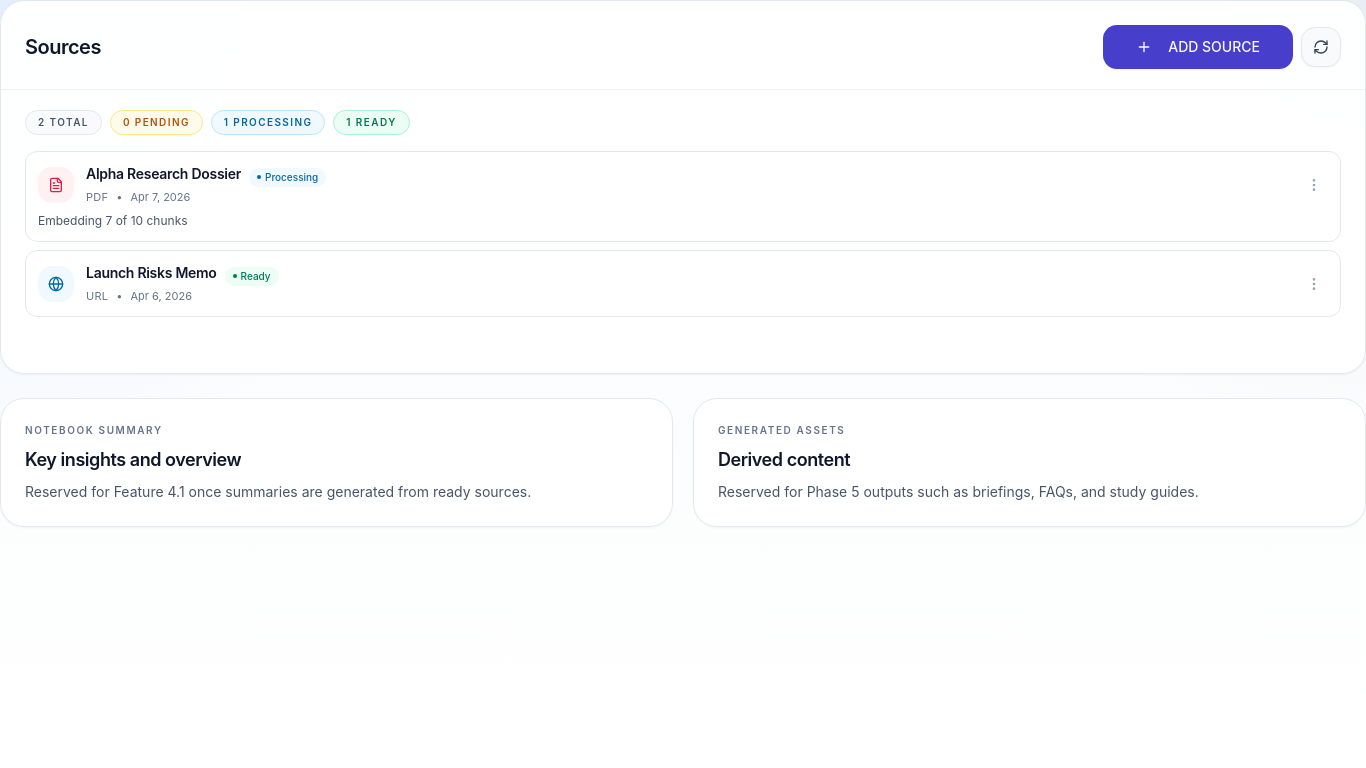
Test case: NotebookWorkspace › closes the source action menu when clicking outside the portal
Check: the heading "Alpha Research Dossier" is shown, box [86,164,241,184]
Click the button named "More actions for Alpha Research Dossier" at (1314, 184), box [1300,170,1328,198]
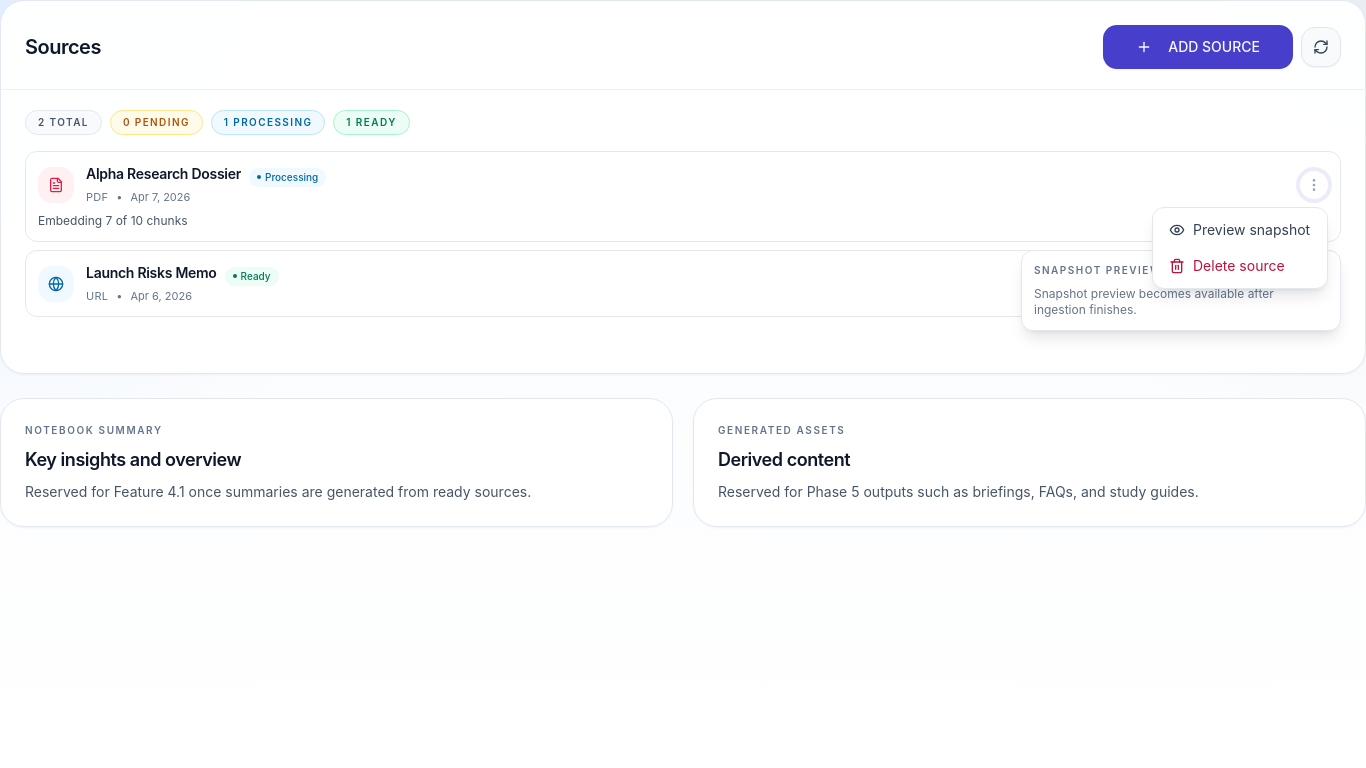
Check: the button "Preview snapshot" is shown, box [1157,212,1323,248]
Press the mouse on the element that starts with "Sources" at (683, 384), box [0,0,1365,767]
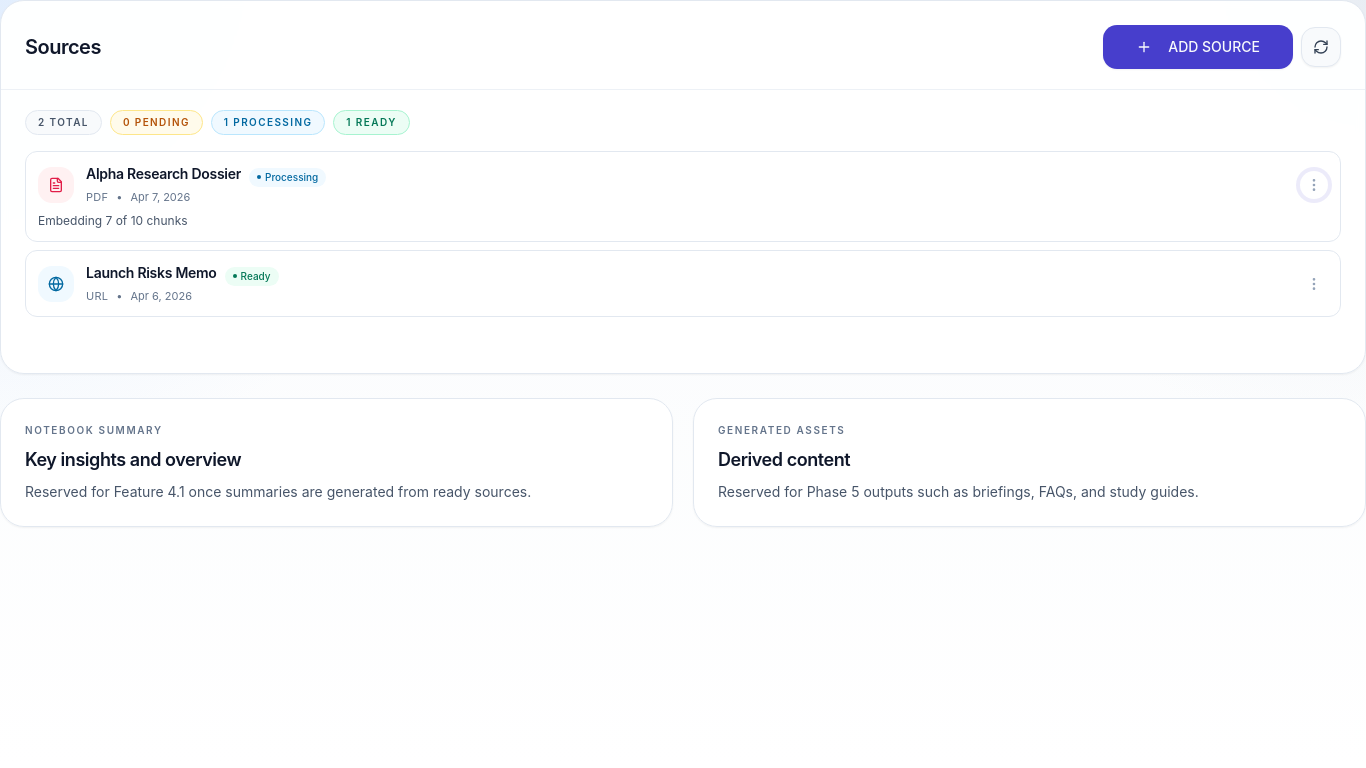
Check: the button "Preview snapshot" is gone
